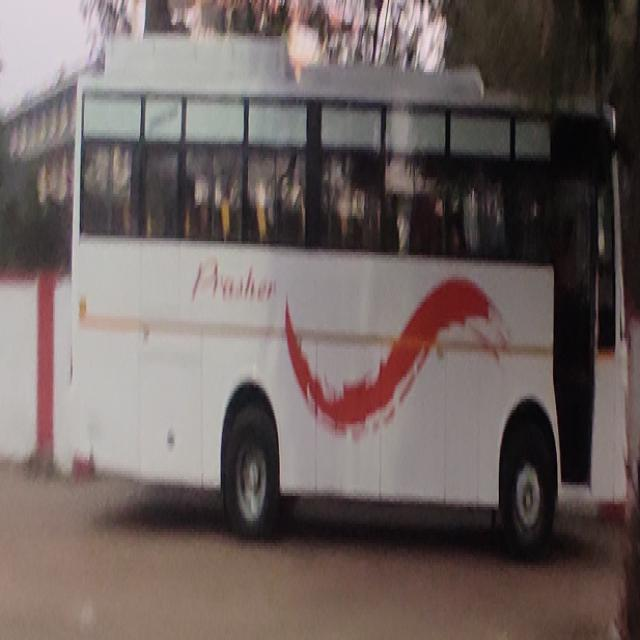bus: (70, 19, 632, 560)
